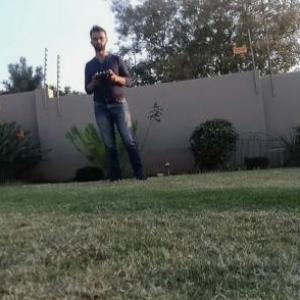follow: (82, 19, 155, 186)
